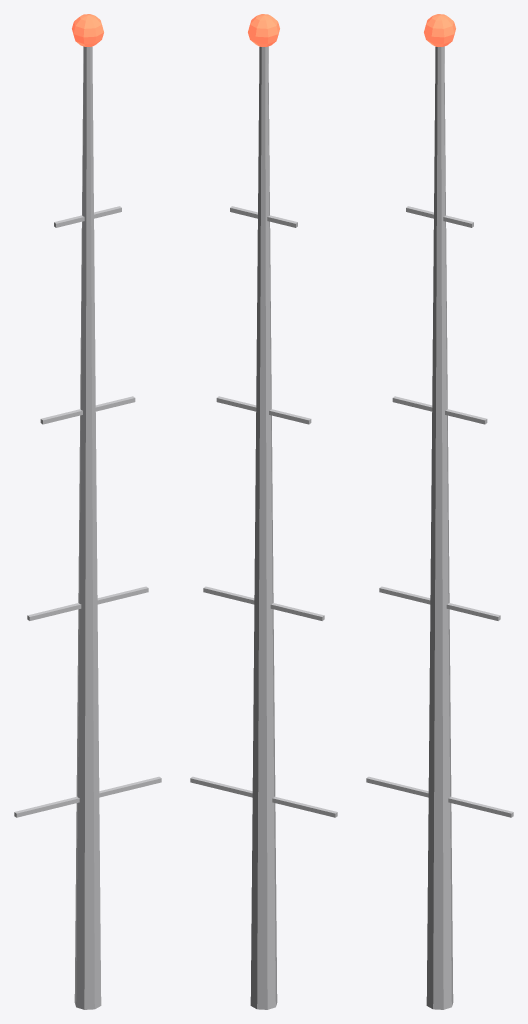
The model's file is antenna.glb.
The picture shows the model from 3 angles, left to right: view 1: azimuth 30°, elevation 25°; view 2: azimuth 150°, elevation 25°; view 3: azimuth 330°, elevation 25°; orthographic projection.
Parts seen in each view (by area): view 1: antenna; view 2: antenna; view 3: antenna.
Boxes of the visible parts, box(x1,y1,x2,y2) form: antenna: box(14, 14, 161, 1009); antenna: box(190, 14, 337, 1009); antenna: box(366, 14, 513, 1009).
Size of the model in its own units: 2.2 by 14.32 by 0.44.
